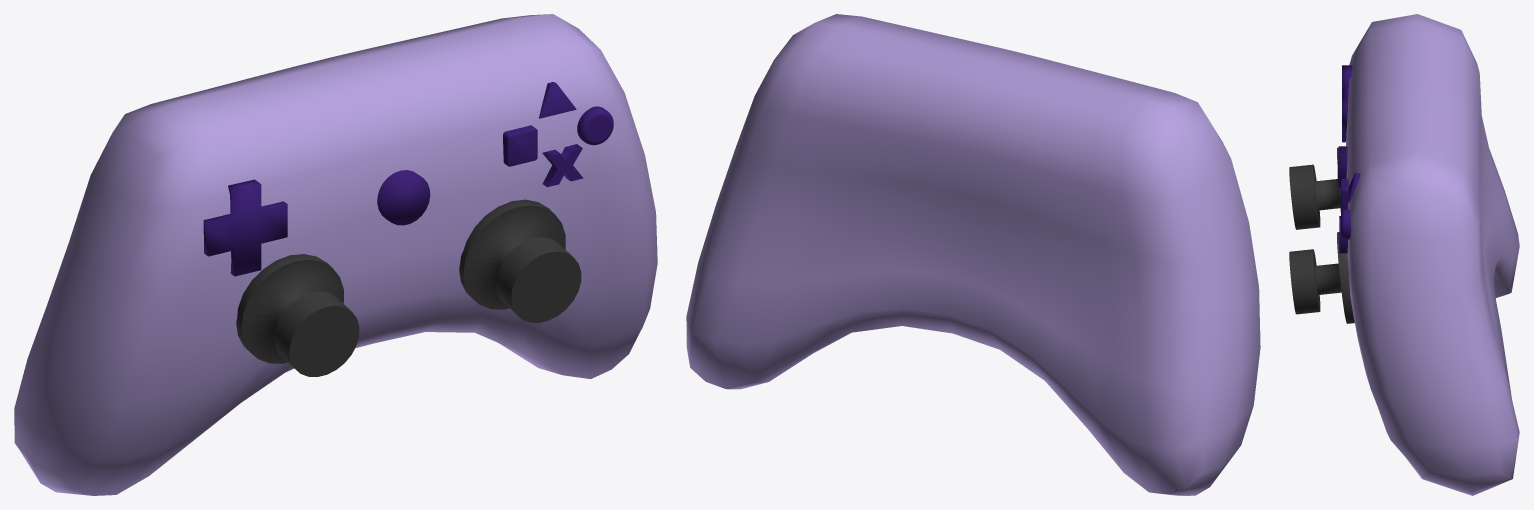
The model's file is oyunkolu.fbx.
The picture shows the model from 3 angles, left to right: view 1: azimuth 30°, elevation 25°; view 2: azimuth 150°, elevation 25°; view 3: azimuth 270°, elevation 25°; orthographic projection. The views are drawn at different scales.
Visible parts, largest first — view 1: oyunkolu; view 2: oyunkolu; view 3: oyunkolu.
Boxes of the visible parts, x1,y1,x2,y2 form: oyunkolu: (14,14,657,495); oyunkolu: (686,14,1260,495); oyunkolu: (1289,14,1519,495).
Bounding box in the file's own units: 260 × 168 × 112.
